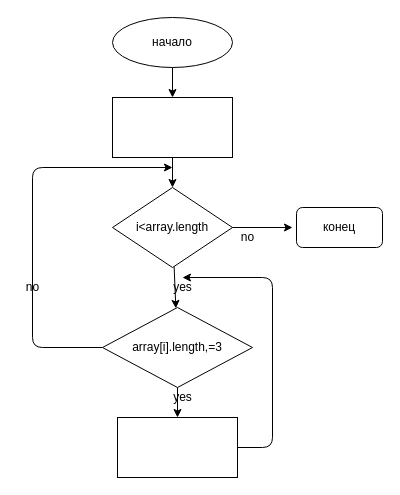
The diagram is 400 pixels wide and 495 high, and some of its shapes have lost their labels. Each missing label, with the box of its shape:
arr[i] count=0 length: (112, 96, 232, 158)
coint++: (116, 416, 238, 478)
